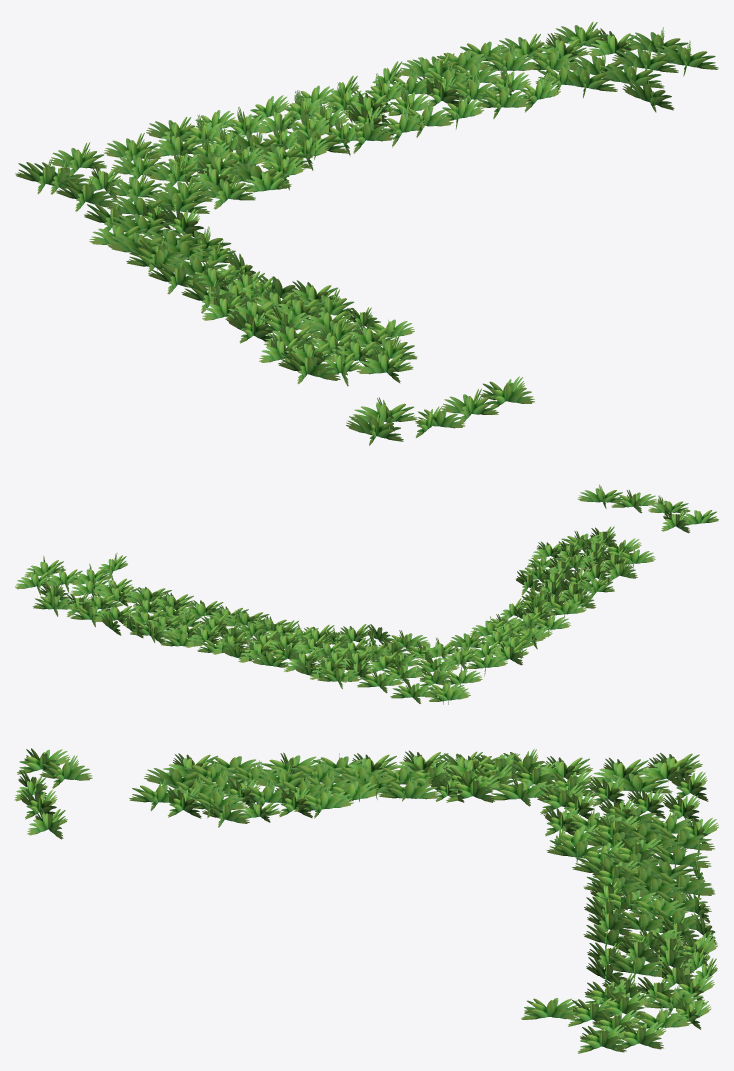
Rendered from grass_yard.glb.
3 renders of one model, top to bottom at view 1: azimuth 30°, elevation 25°; view 2: azimuth 150°, elevation 25°; view 3: azimuth 270°, elevation 25°, orthographic. The views are drawn at different scales.
Parts seen in each view (by area): view 1: Grass_yard; view 2: Grass_yard; view 3: Grass_yard.
Part boxes in pixels (x1=…): Grass_yard: x1=15, y1=22, x2=718, y2=445; Grass_yard: x1=15, y1=484, x2=718, y2=704; Grass_yard: x1=14, y1=748, x2=718, y2=1053.
Size of the model in its own units: 31.19 by 1.19 by 31.52.
1 material, 1 textured.
